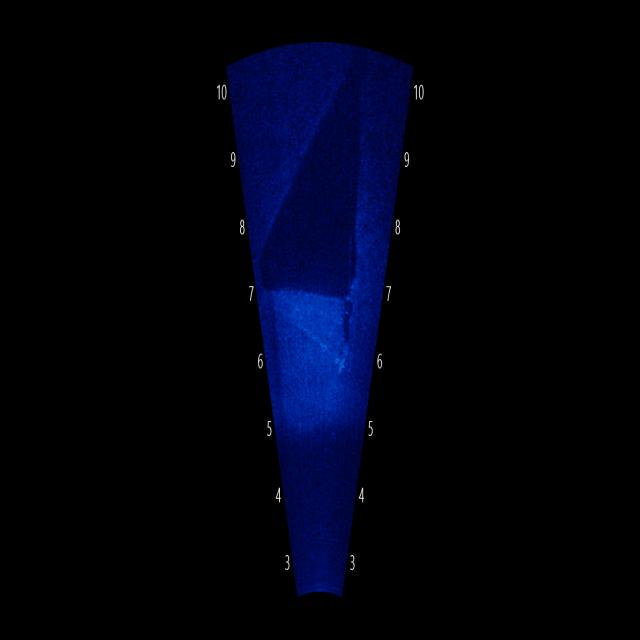triangle: (262, 272, 366, 372)
